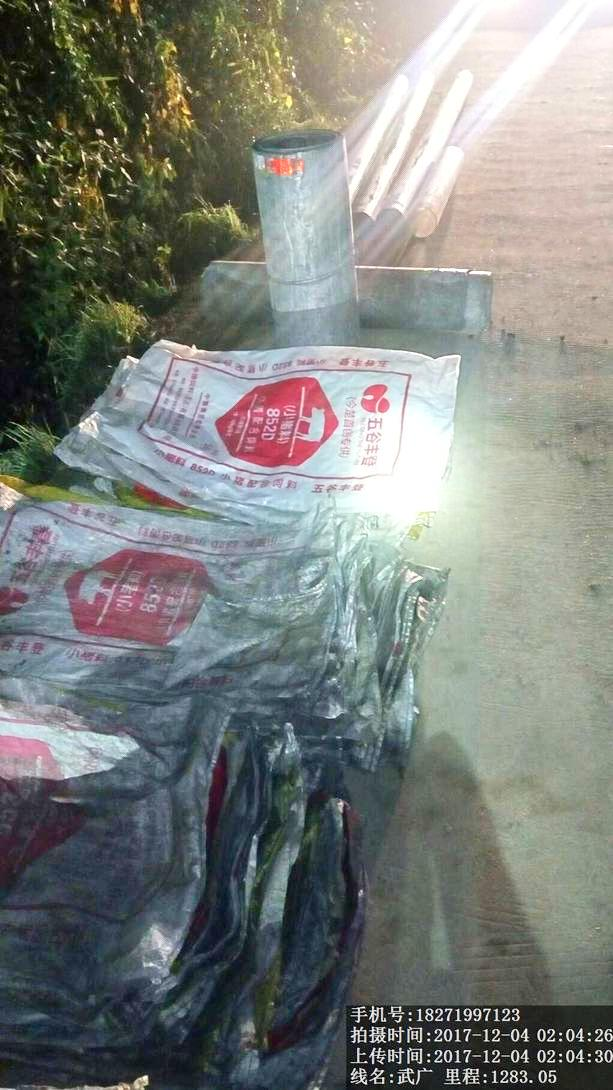BZD: (9, 780, 403, 1075), (1, 527, 466, 772), (53, 340, 476, 525)
